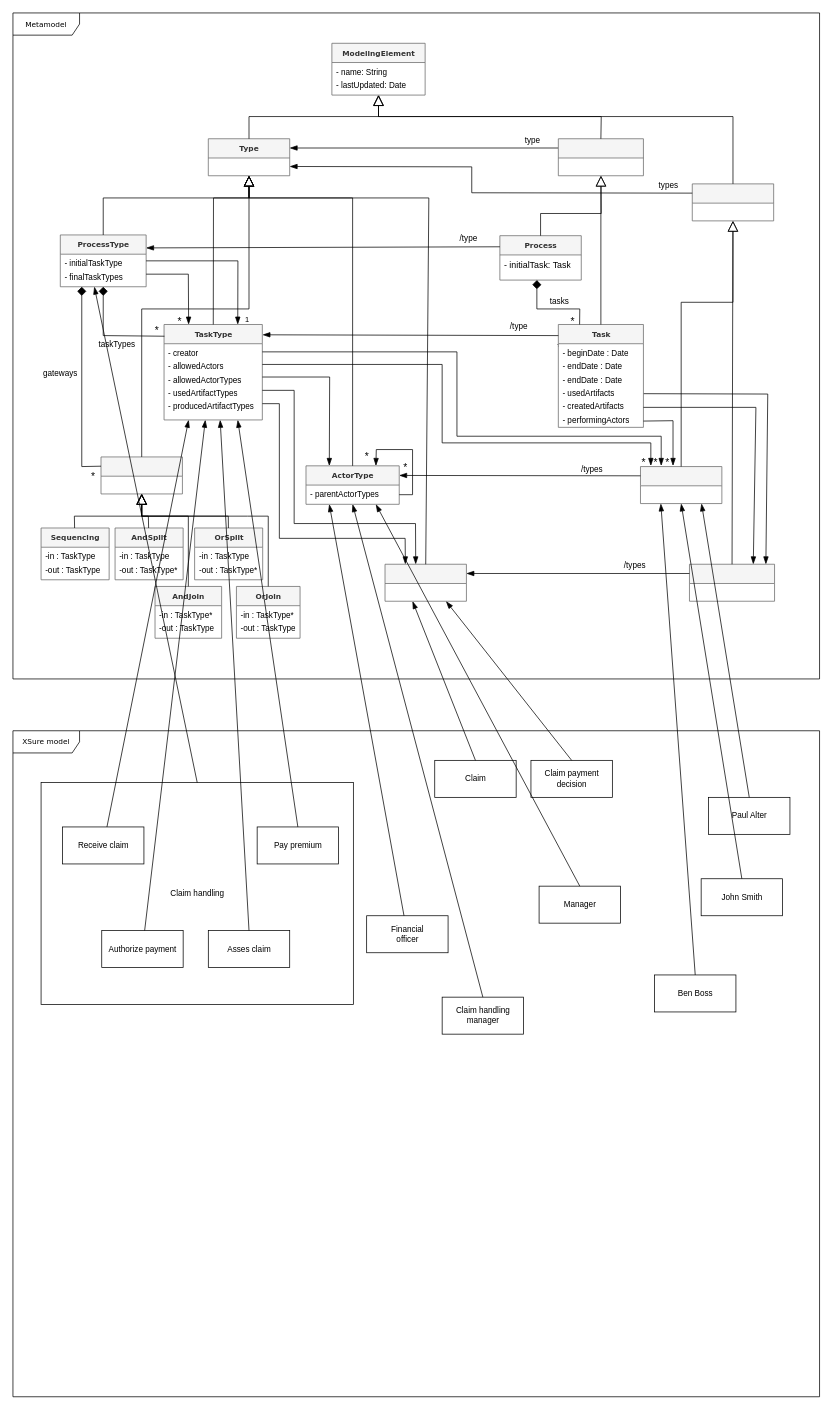
This 833x1410 diagram has some shape labels left out. Here are the shapes that lost their labels. From the top down, the centre of each, then its label:
pixel 600 157: Instance
pixel 733 202: MultiInstance
pixel 141 475: Gateway
pixel 681 485: Actor
pixel 425 582: ArtifactType
pixel 732 582: Artifact
